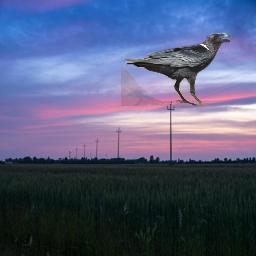Crow: (121, 31, 232, 106)
